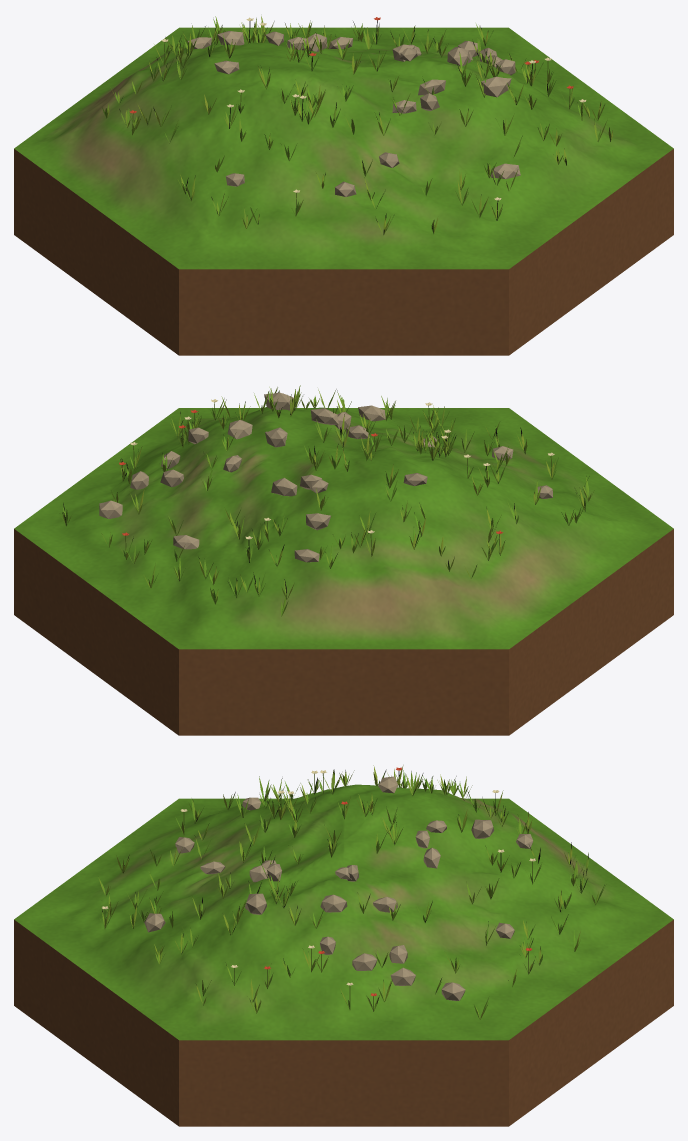
File: SM_ColinaNatural_A_Detalle_LOD0.fbx
3 views of the same model, one above another, from view 1: azimuth 30°, elevation 25°; view 2: azimuth 150°, elevation 25°; view 3: azimuth 270°, elevation 25° (orthographic).
Visible parts, largest first — view 1: SM_ColinaNatural_A_Detalle_LOD0; view 2: SM_ColinaNatural_A_Detalle_LOD0; view 3: SM_ColinaNatural_A_Detalle_LOD0.
Part boxes in pixels (bbox=[...]): SM_ColinaNatural_A_Detalle_LOD0: bbox=[14, 16, 673, 355]; SM_ColinaNatural_A_Detalle_LOD0: bbox=[14, 385, 673, 735]; SM_ColinaNatural_A_Detalle_LOD0: bbox=[14, 765, 673, 1126].
Bounding box in the file's own units: 1.68 × 0.6296 × 1.94.
Materials: 1 (1 with a texture image).
